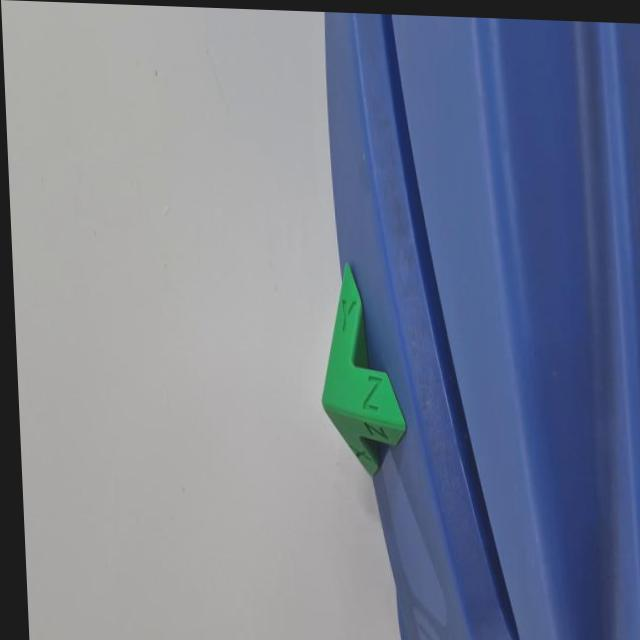eje: (312, 258, 410, 482)
